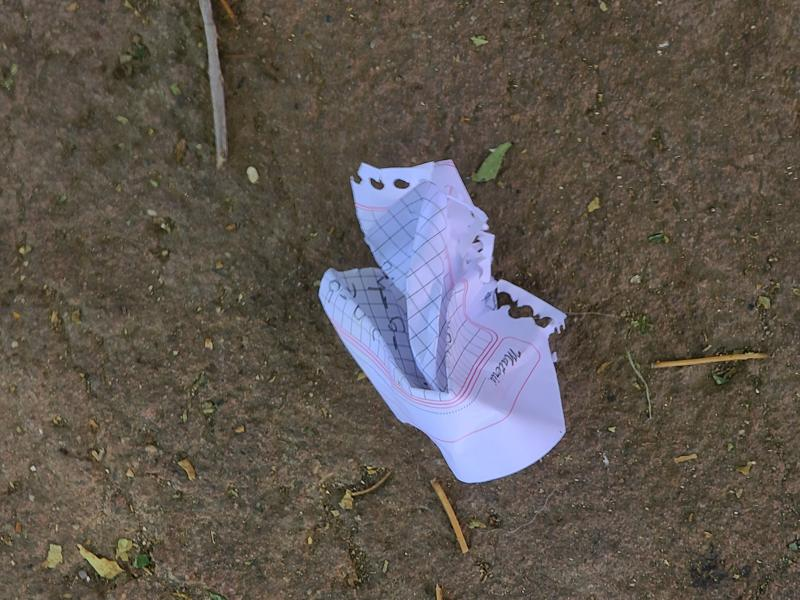papel: (318, 160, 569, 486)
